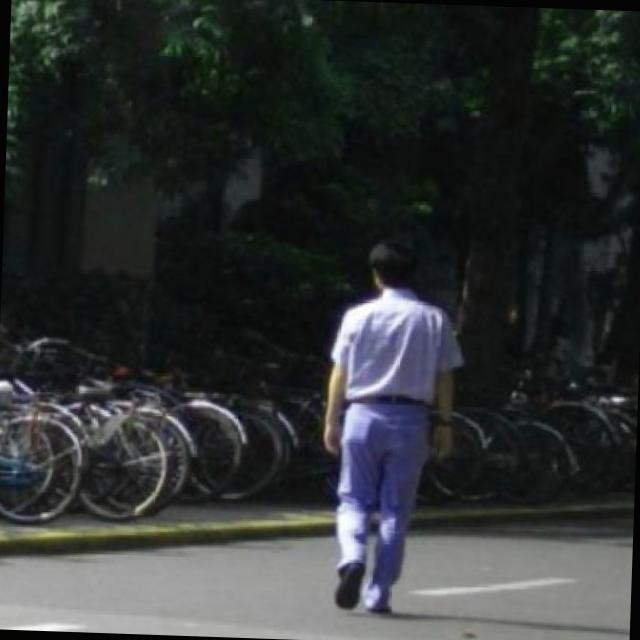Person: (308, 231, 467, 620)
